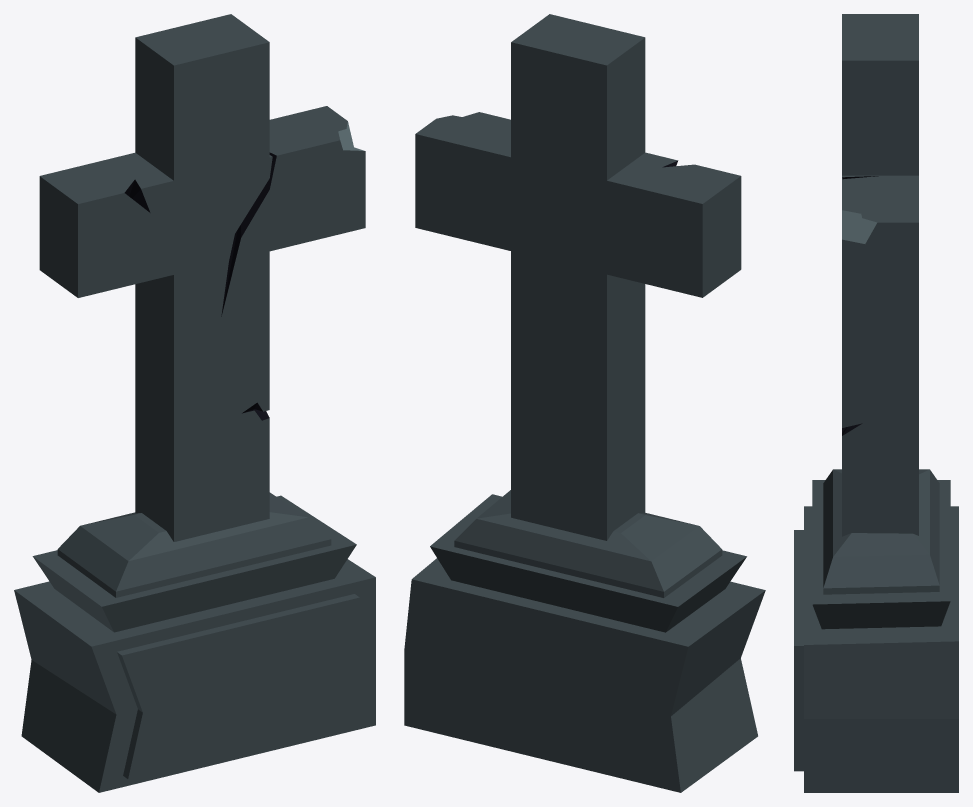
File: kuburan 4.fbx
3 views of the same model, side by side, from view 1: azimuth 30°, elevation 25°; view 2: azimuth 150°, elevation 25°; view 3: azimuth 270°, elevation 25° (orthographic).
Visible parts, largest first — view 1: Circle.001; view 2: Circle.001; view 3: Circle.001.
Boxes of the visible parts, x1=… form: Circle.001: x1=14, y1=14, x2=375, y2=792; Circle.001: x1=404, y1=14, x2=765, y2=792; Circle.001: x1=794, y1=14, x2=958, y2=792.
Size of the model in its own units: 204 by 459 by 99.34.
